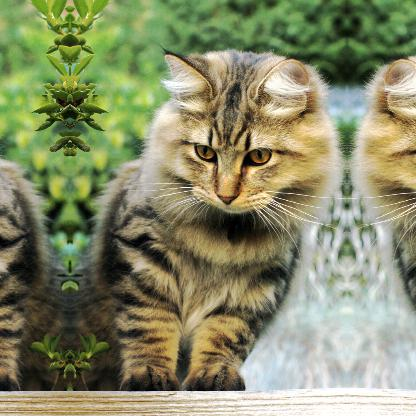Cat: (69, 49, 342, 393), (0, 49, 70, 394), (350, 49, 415, 394)
